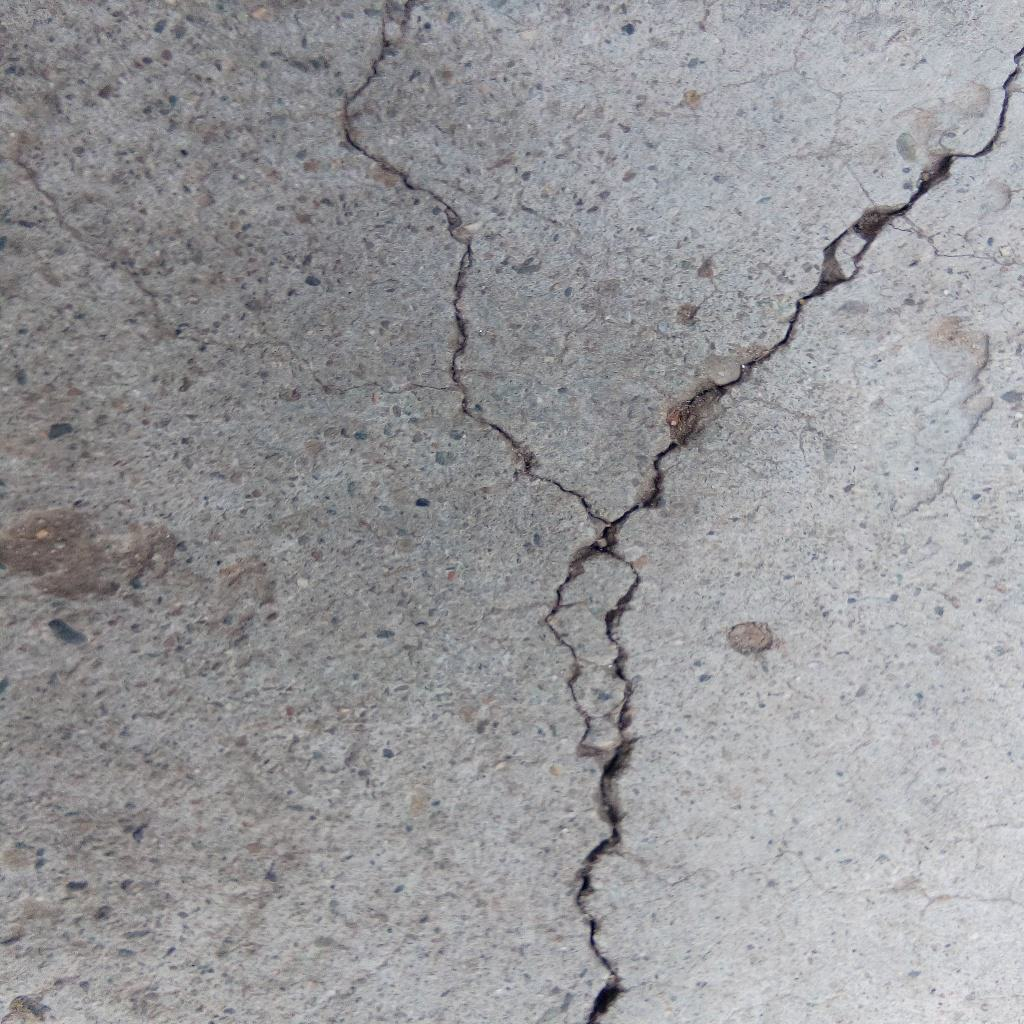Crack: (614, 45, 1024, 526), (339, 1, 614, 526), (540, 527, 643, 1024)
Spalling: (1, 506, 179, 604), (728, 620, 774, 656)
